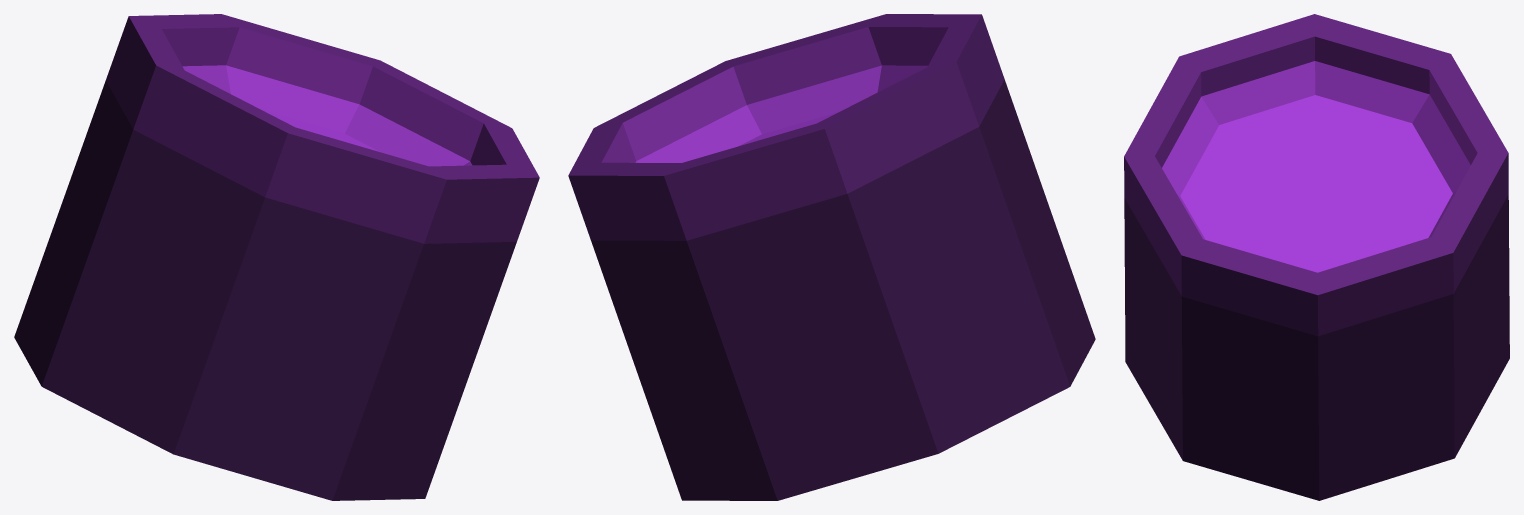
Rendered from button.glb.
3 views of the same model, side by side, from view 1: azimuth 30°, elevation 25°; view 2: azimuth 150°, elevation 25°; view 3: azimuth 270°, elevation 25° (orthographic). The views are drawn at different scales.
Parts seen in each view (by area): view 1: body.004; view 2: body.004; view 3: body.004.
Boxes of the visible parts, x1,y1,x2,y2 form: body.004: (14, 14, 539, 500); body.004: (568, 14, 1095, 500); body.004: (1124, 14, 1509, 500).
Bounding box in the file's own units: 0.0247 × 0.0223 × 0.0203.
Materials: 1 (1 with a texture image).
